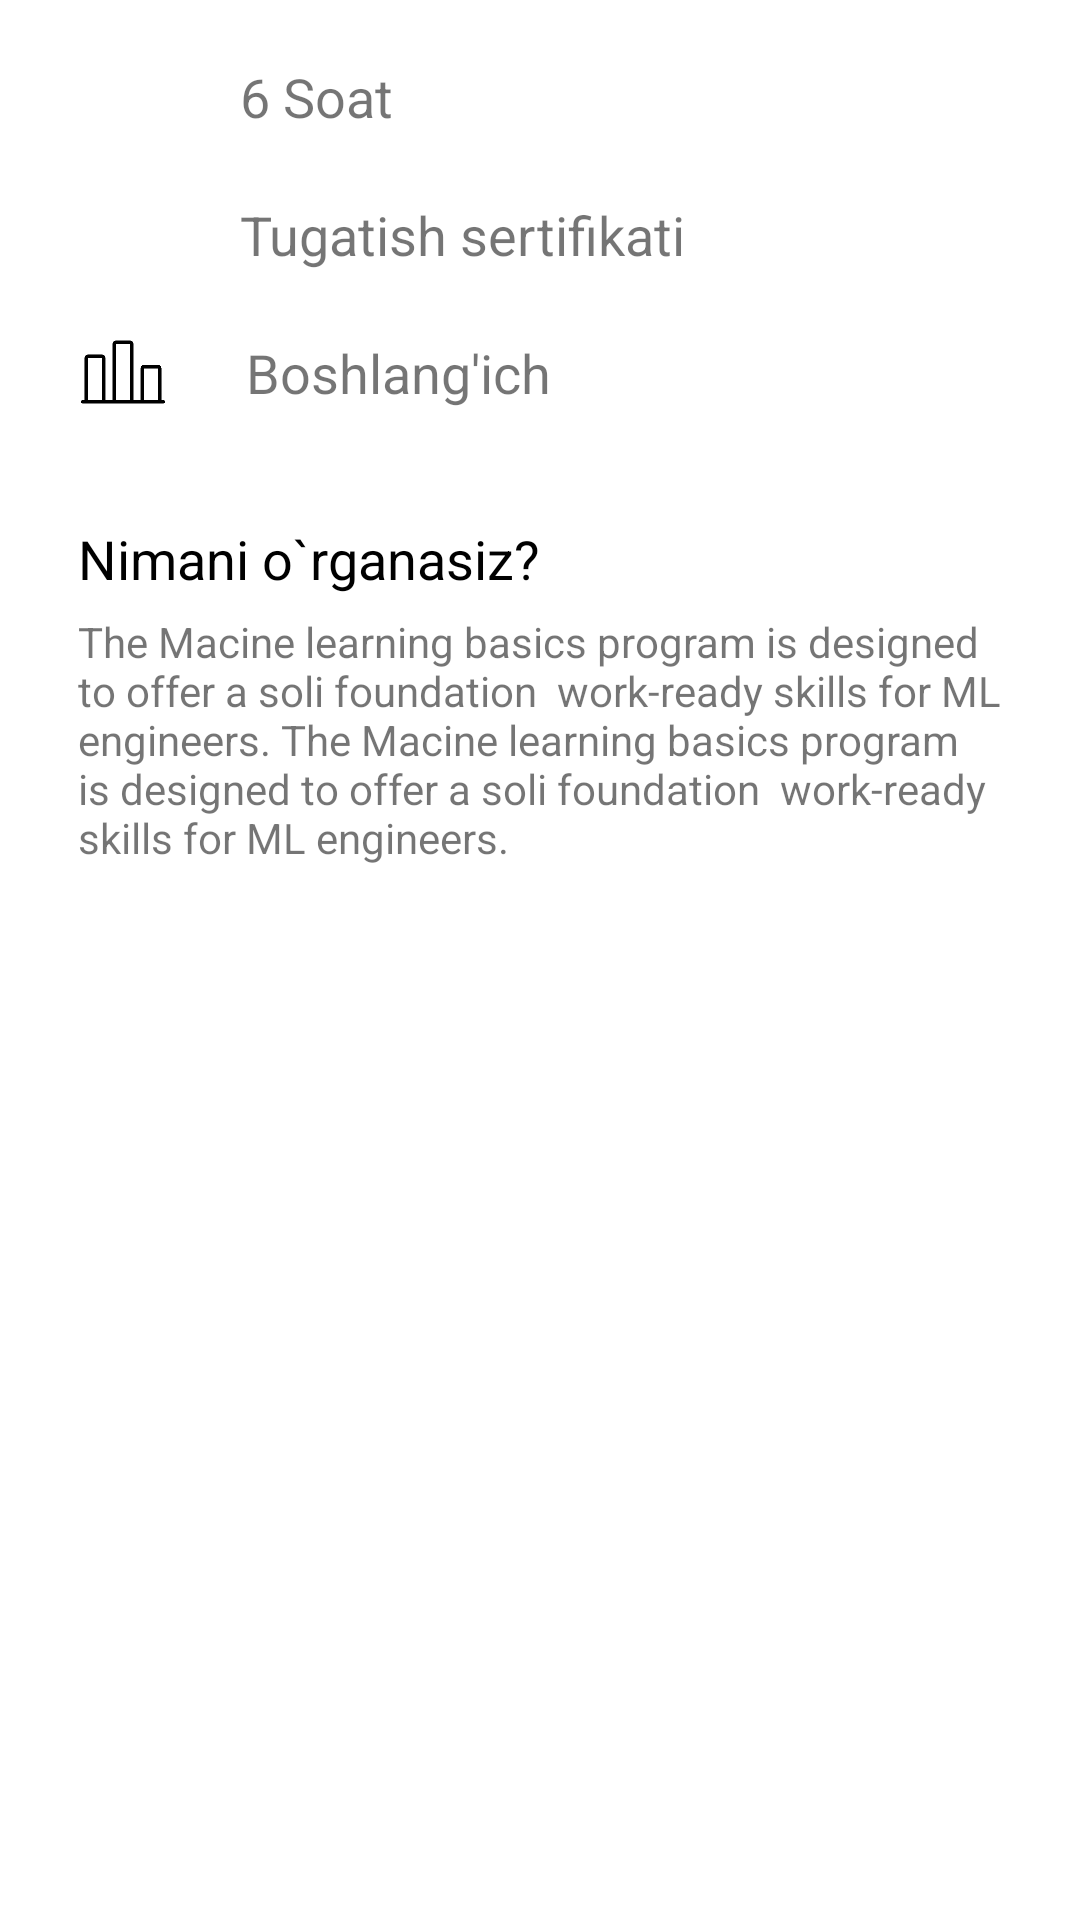

Where icons sit on this 1080 x 1920 app screen, as (x1, y1, x2, y2):
diagram: (81, 340, 165, 404)
